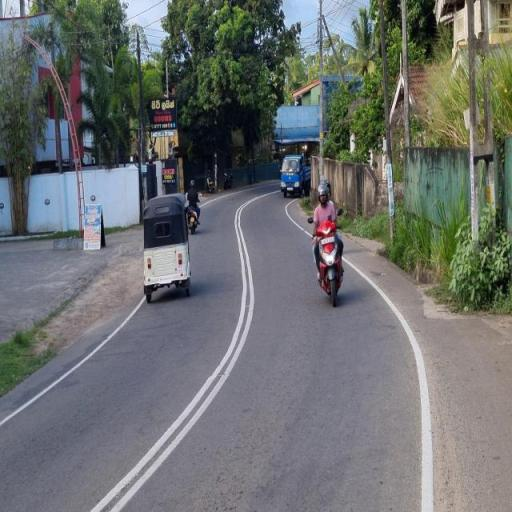double_white_line: (89, 194, 252, 511)
